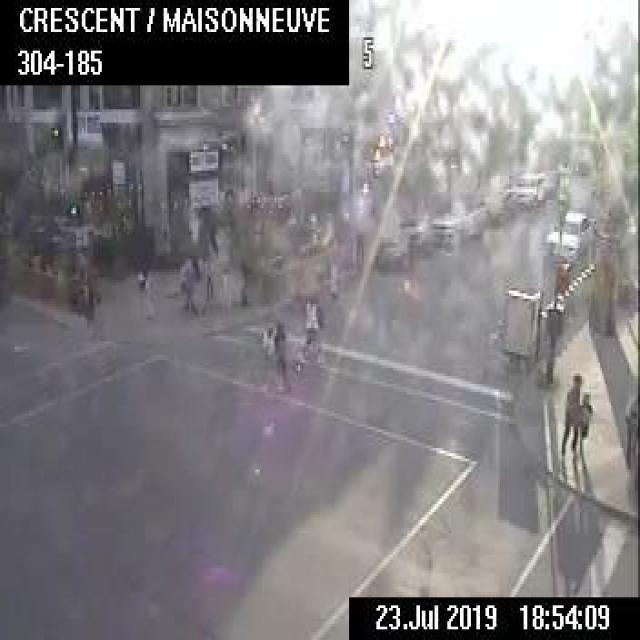pedestrian: (559, 371, 580, 457), (179, 255, 197, 313), (136, 261, 154, 318), (302, 291, 318, 352), (577, 390, 591, 454), (260, 321, 274, 384), (273, 317, 286, 383), (202, 249, 214, 298)
vehicle: (544, 208, 596, 258), (374, 223, 424, 269), (512, 170, 544, 206)
